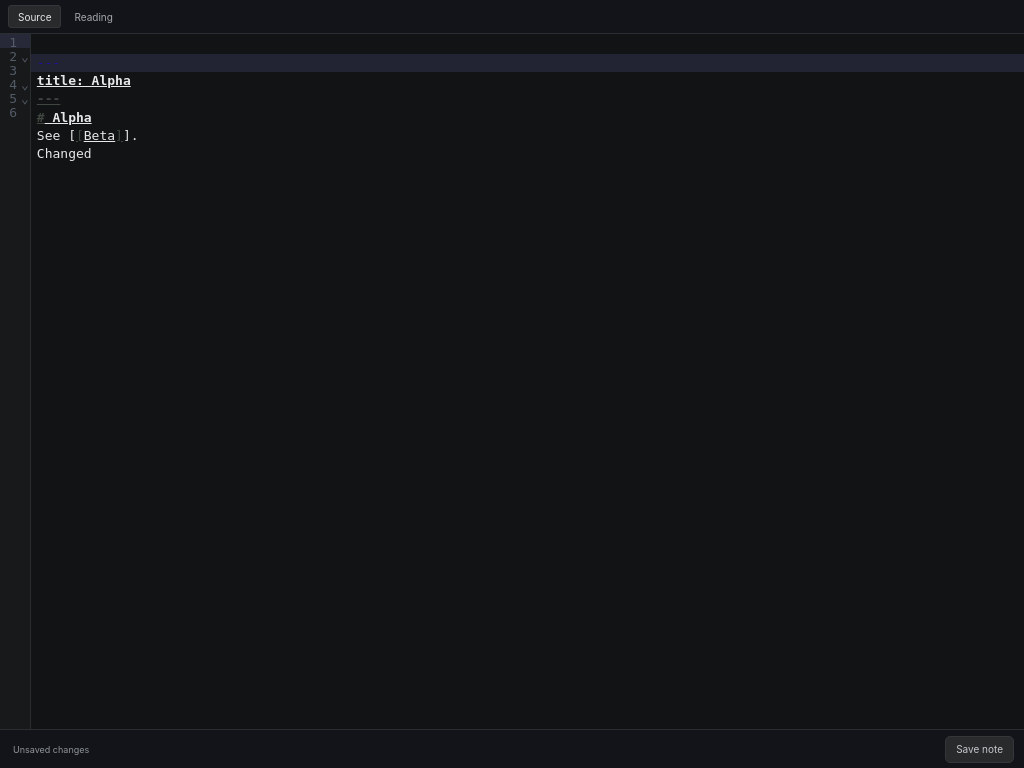
Test: CodeMirror Markdown editor boundary › marks the editor clean after a successful save
This screenshot has width=1024, height=768.
Click the button "Save note": (980, 749) [945,736,1014,762]
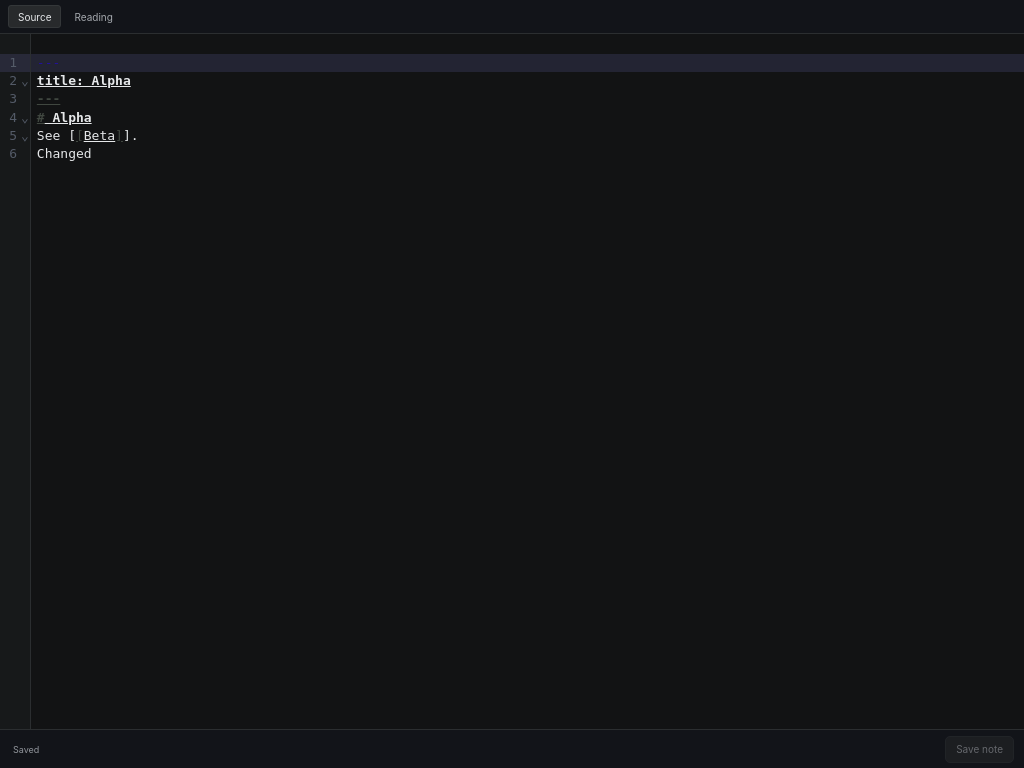
Check: the button "Save note" is disabled, box [945,736,1014,762]
Check: the message reads "Saved", box [13,744,39,754]
